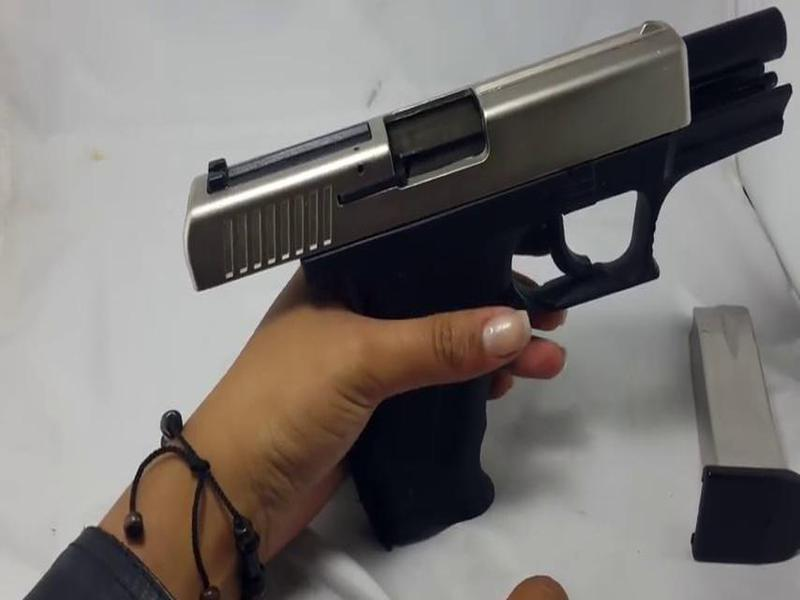Pistola: (173, 11, 786, 519)
